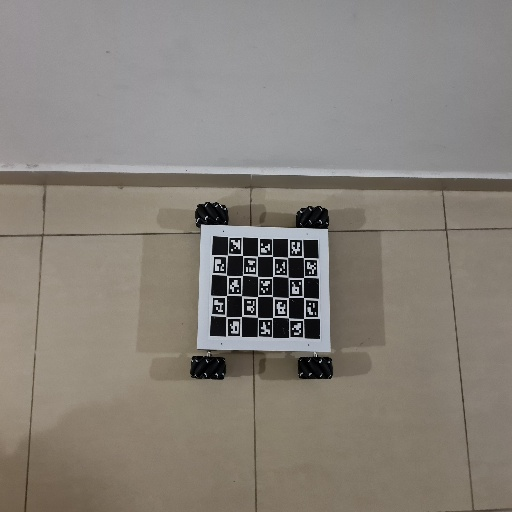Omniwheel: (189, 202, 336, 382)
